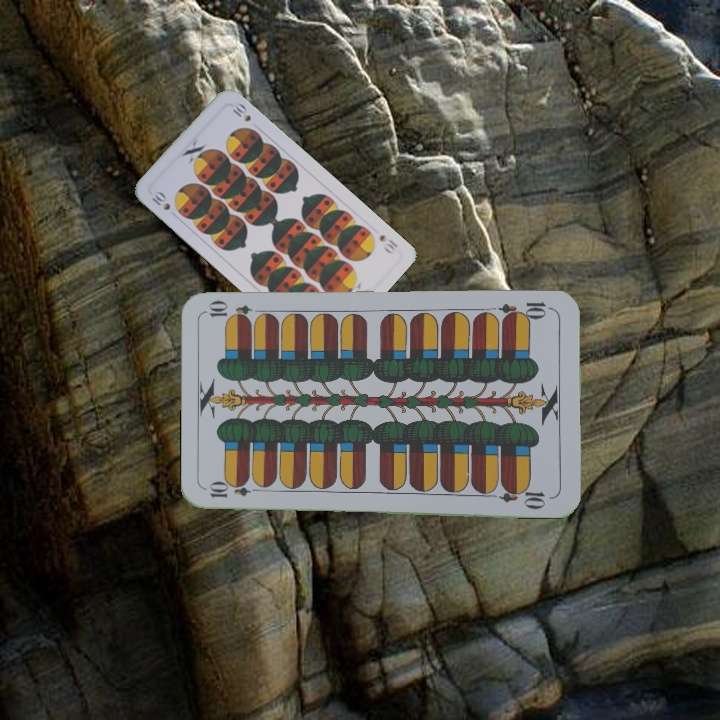E10: (496, 298, 555, 324), (205, 482, 264, 500)
S10: (148, 186, 173, 213), (375, 231, 400, 257)
